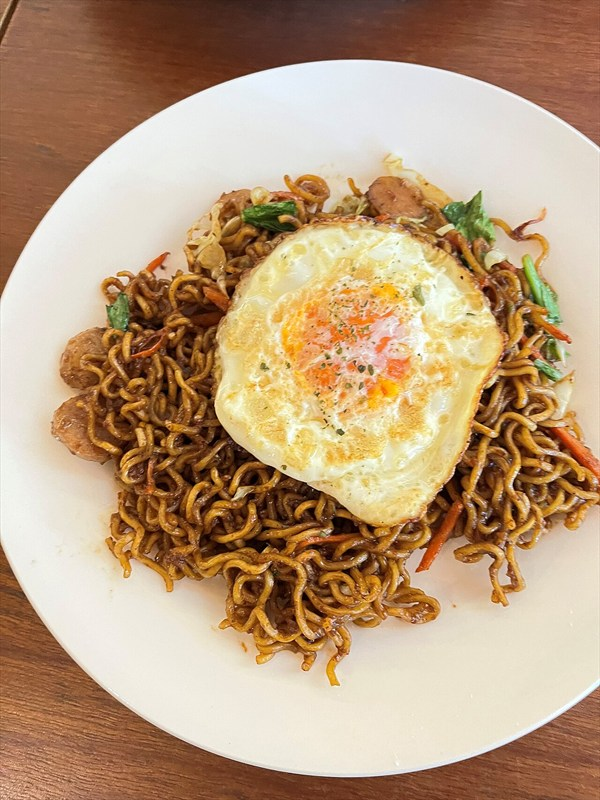Mie Goreng: (99, 165, 553, 655)
